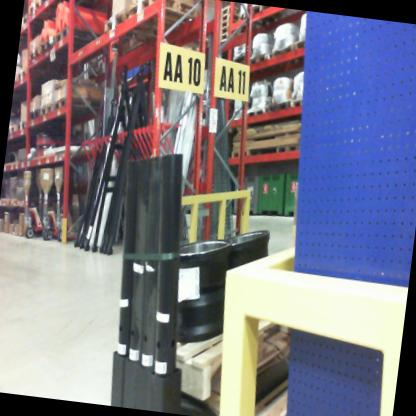pallet: (152, 246, 347, 416), (190, 305, 349, 416), (100, 6, 182, 54), (51, 17, 110, 60), (52, 88, 113, 125), (126, 0, 198, 30), (38, 95, 96, 127), (40, 30, 91, 65), (27, 104, 76, 131), (25, 0, 75, 26), (24, 47, 76, 71), (267, 40, 301, 72), (245, 4, 286, 28), (38, 0, 91, 17), (248, 49, 279, 78), (230, 54, 261, 82), (225, 142, 257, 166), (16, 67, 48, 91), (264, 93, 290, 121), (290, 34, 312, 64), (15, 116, 42, 139), (244, 99, 266, 124), (272, 142, 303, 156), (218, 9, 241, 24), (219, 3, 240, 17), (292, 94, 308, 112), (217, 18, 238, 30), (217, 29, 234, 42), (8, 119, 18, 141), (216, 24, 237, 33), (21, 13, 30, 33)
pallet_truck: (44, 163, 96, 245), (10, 163, 52, 242), (31, 161, 63, 241), (26, 166, 50, 238)
